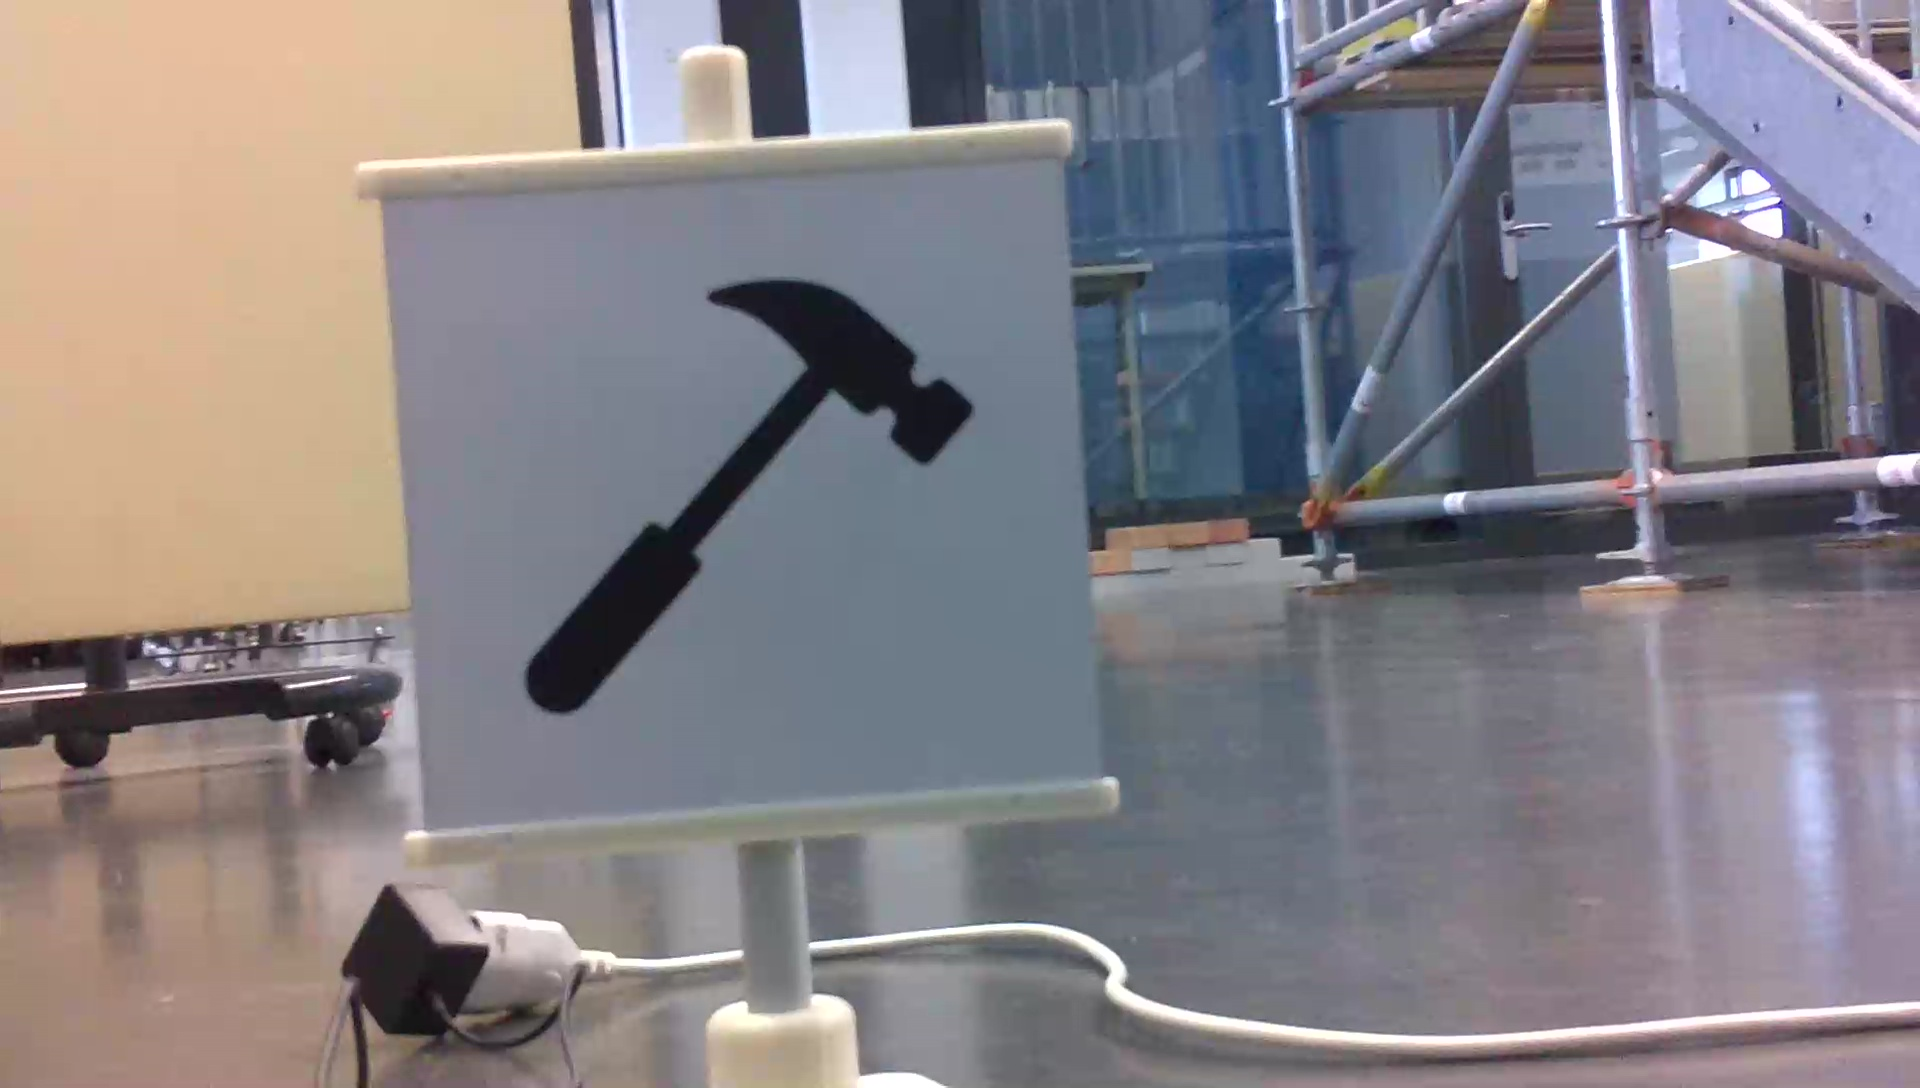hammer: (508, 270, 980, 720)
